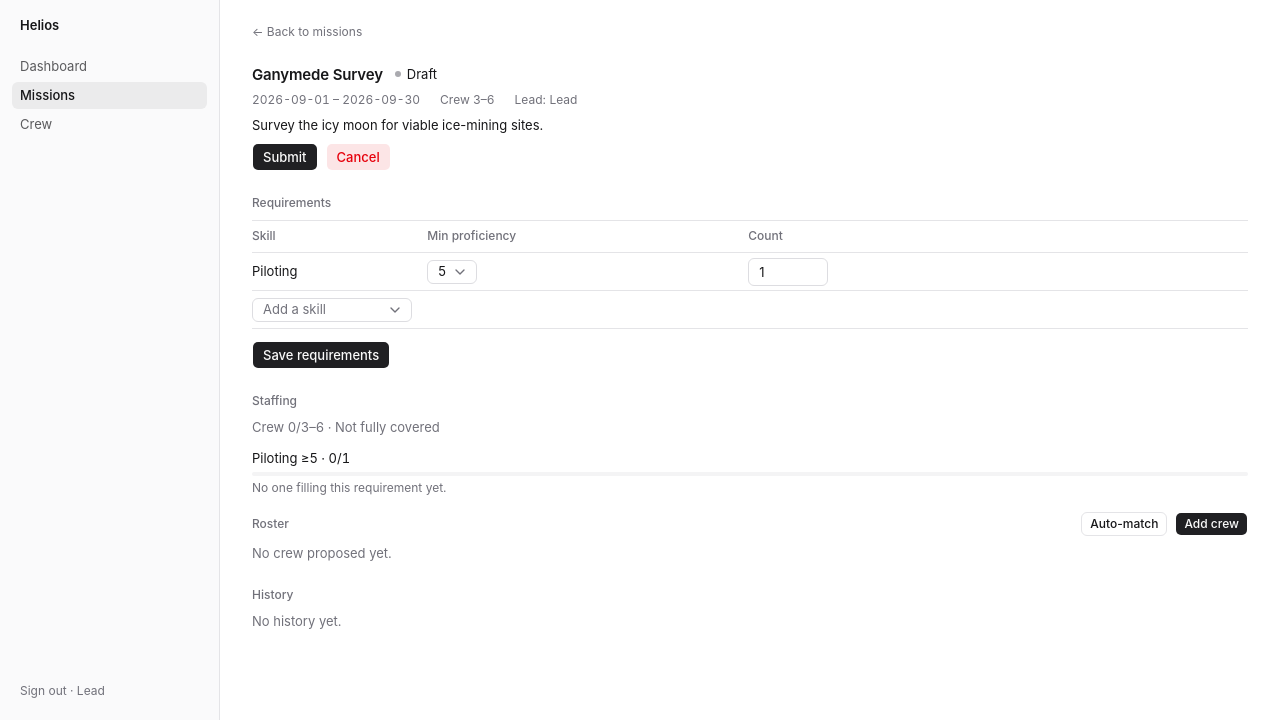
Test: mission detail › surfaces the server's message when a transition is rejected
Click the button "Submit".
click(285, 157)  # box [252,143,318,171]
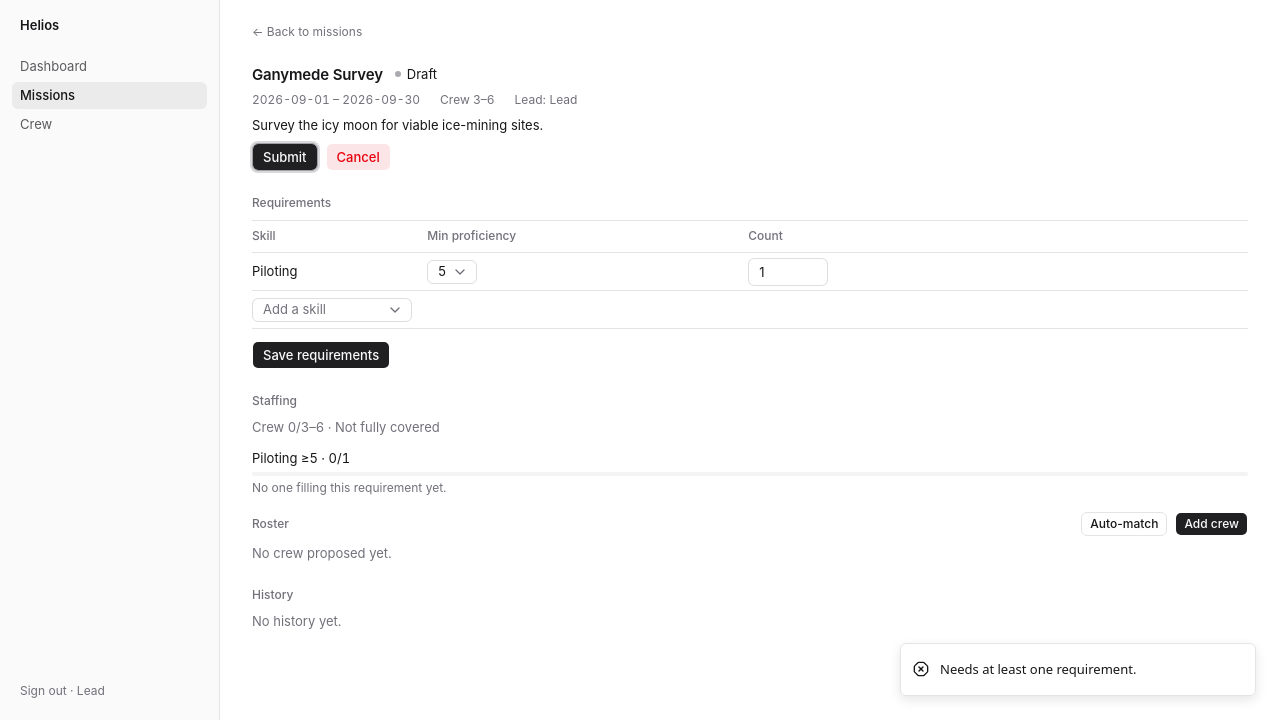
Now the text "Needs at least one requirement." is shown, box [940,660,1136,679]
